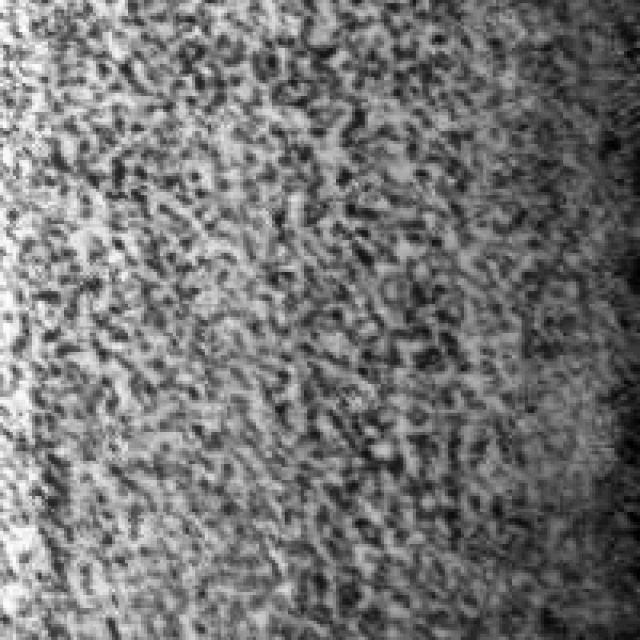Rolled_in_Scale: (80, 3, 598, 637)
